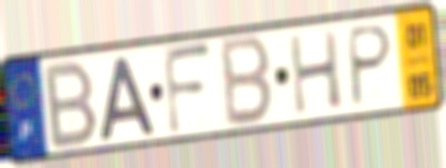A: (96, 54, 157, 144)
B: (43, 57, 101, 153), (219, 32, 275, 130)
F: (160, 41, 215, 138)
H: (285, 26, 345, 118)
P: (347, 22, 396, 111)
